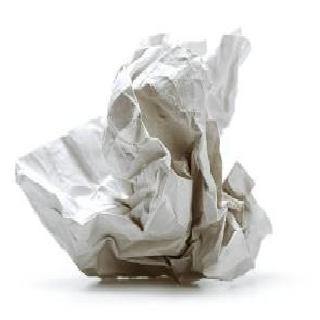8/可回收垃圾/纸: (13, 28, 273, 284)
